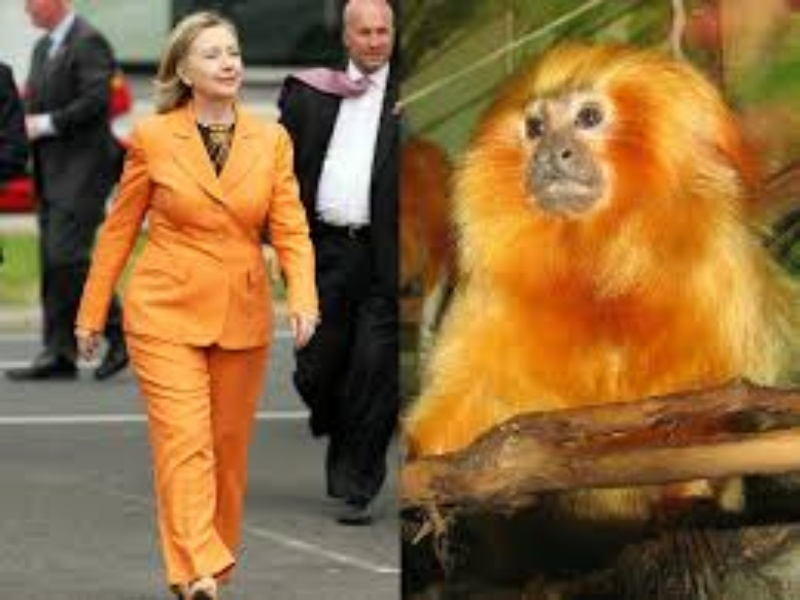monkey: (428, 34, 792, 461)
